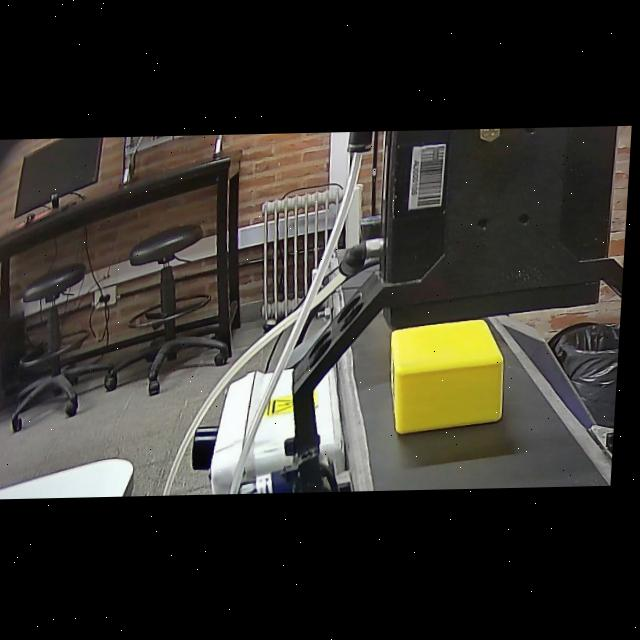yellowBox: (389, 318, 517, 448)
